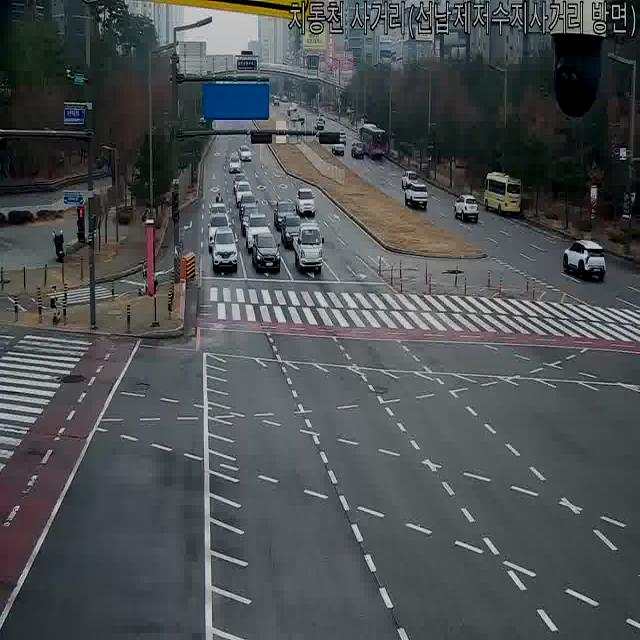Bus: (482, 172, 524, 216), (360, 124, 388, 158)
Car: (563, 238, 606, 281), (210, 228, 238, 274), (251, 233, 281, 274), (244, 213, 272, 252), (206, 213, 232, 251), (281, 214, 306, 248), (403, 182, 429, 210), (454, 194, 479, 223), (273, 198, 295, 230), (239, 207, 263, 235), (208, 201, 230, 231), (295, 187, 316, 217), (239, 193, 259, 220), (235, 181, 252, 207), (401, 171, 421, 191), (232, 172, 249, 195), (227, 153, 242, 174), (332, 138, 346, 155), (239, 144, 252, 162), (352, 142, 364, 160), (314, 117, 325, 130), (336, 132, 346, 146), (296, 115, 306, 129), (314, 125, 324, 139), (271, 95, 281, 107), (289, 102, 299, 113)
Motorcycle: (215, 186, 222, 208)
Truck: (294, 222, 324, 273)
